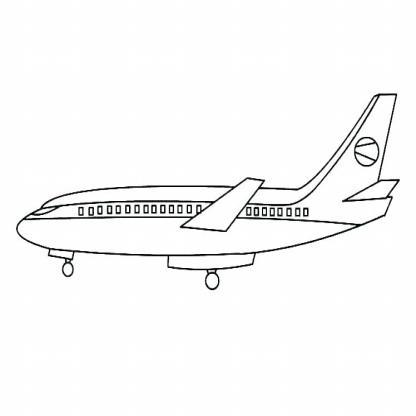CIV_Plane: (15, 90, 399, 298)
